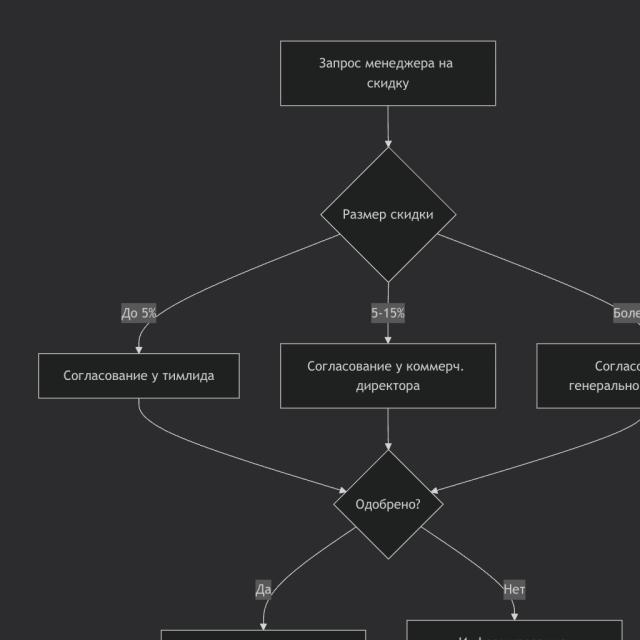arrow: (136, 232, 339, 352), (131, 398, 350, 497), (382, 284, 398, 340), (378, 410, 398, 452), (382, 105, 396, 148)
diamond: (322, 148, 454, 281), (335, 450, 442, 558)
rectangle: (280, 41, 496, 106), (281, 343, 496, 408), (39, 354, 239, 398)
text_region: (497, 577, 532, 599), (120, 307, 159, 322), (251, 580, 280, 600), (370, 305, 407, 320)
